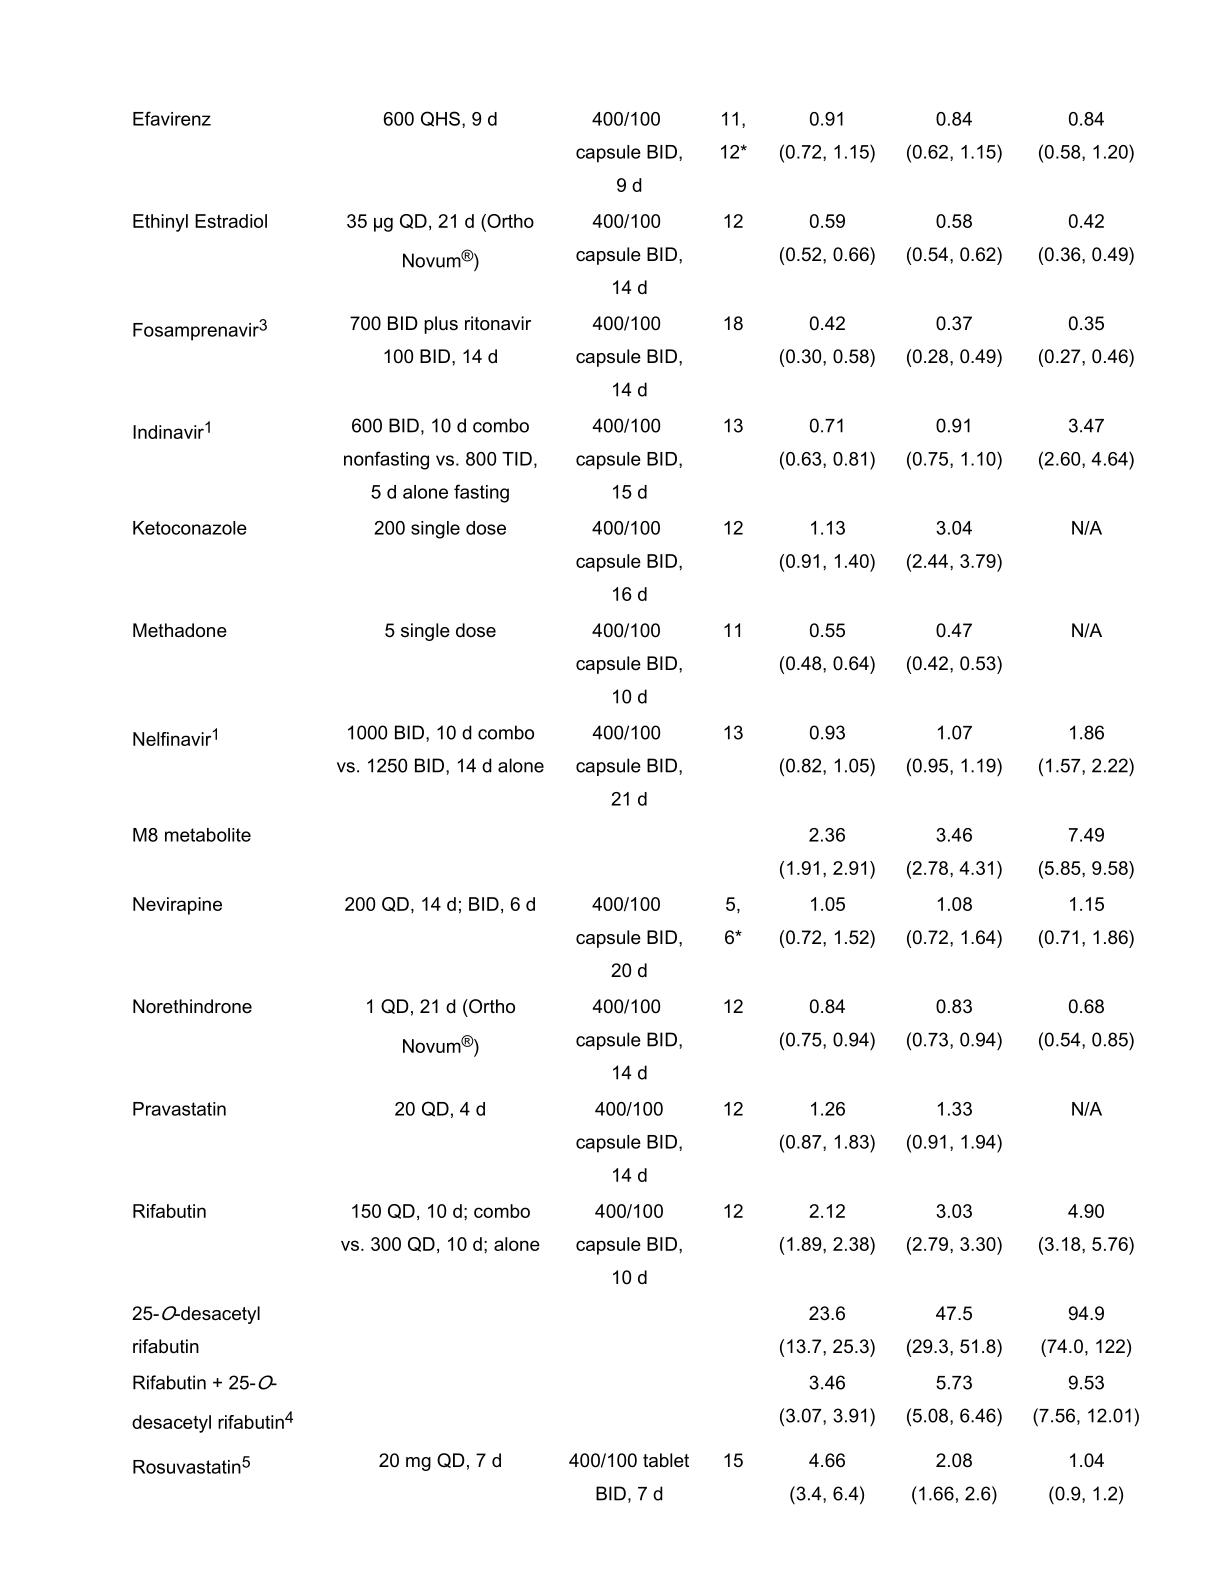nolines: (126, 103, 1142, 1511)
